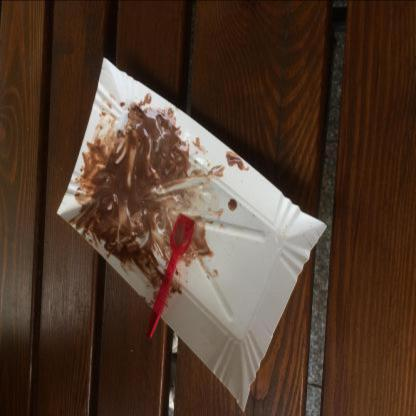Carton: (57, 57, 327, 412)
Other litter: (146, 213, 195, 339)
